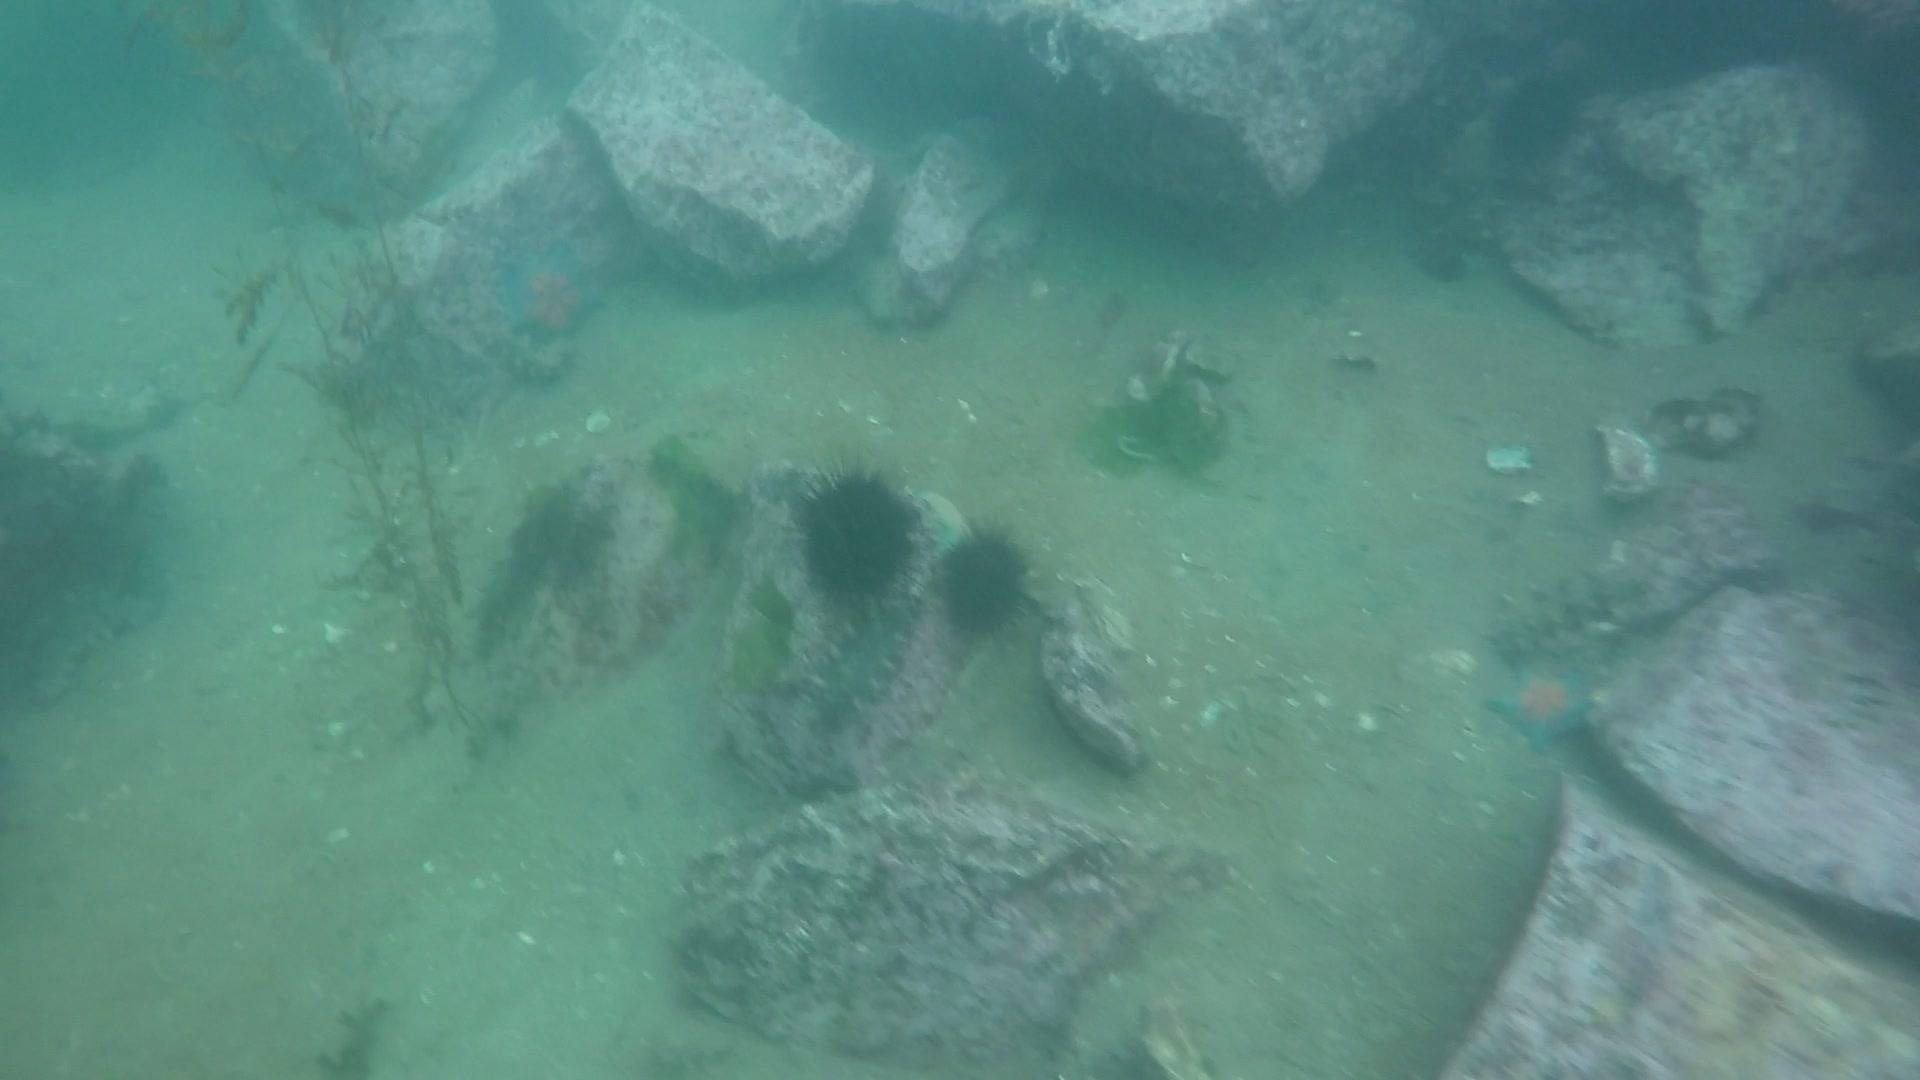echinus: (787, 459, 927, 609), (930, 520, 1038, 642), (1485, 73, 1586, 171)
holothurian: (5, 568, 165, 717), (803, 596, 923, 729)
starfish: (489, 233, 611, 351), (1481, 647, 1604, 756)
